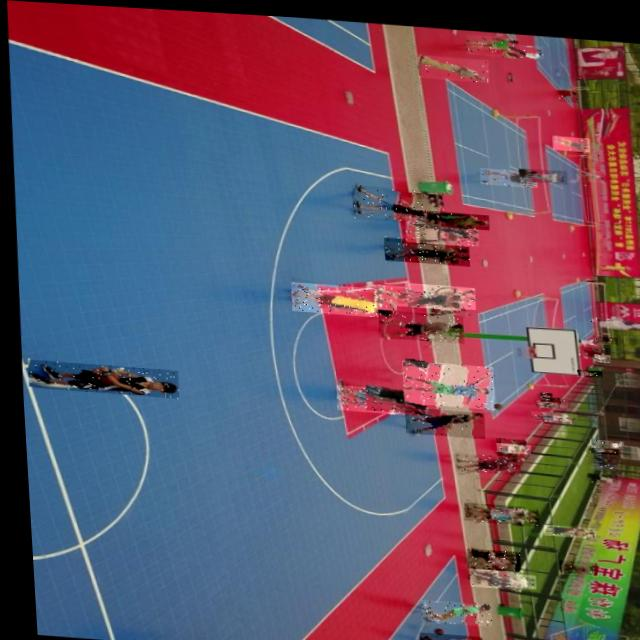Person: (22, 359, 173, 397), (396, 355, 490, 404), (285, 276, 393, 313), (348, 180, 441, 220), (330, 379, 420, 411), (373, 305, 459, 338), (379, 231, 466, 260), (398, 402, 479, 433), (359, 380, 439, 409), (369, 280, 456, 305), (401, 212, 475, 240), (412, 594, 483, 621), (416, 49, 487, 76), (400, 278, 471, 304), (448, 447, 514, 469), (465, 499, 532, 520), (456, 496, 518, 518), (459, 542, 513, 566), (465, 28, 519, 52), (461, 560, 514, 584), (423, 205, 485, 224), (476, 161, 534, 181), (410, 627, 474, 640), (515, 161, 564, 177), (483, 566, 528, 583), (549, 128, 587, 145), (490, 431, 520, 452), (504, 36, 543, 52), (535, 517, 578, 531), (525, 404, 571, 417), (551, 553, 590, 568), (546, 516, 588, 529), (583, 450, 614, 464), (573, 338, 605, 351), (490, 436, 524, 448), (572, 161, 601, 175), (583, 431, 618, 442), (581, 446, 612, 458), (580, 465, 611, 476), (579, 438, 612, 448), (530, 393, 560, 401), (556, 83, 576, 95), (535, 392, 561, 401), (571, 362, 596, 370), (589, 328, 613, 336), (585, 309, 609, 315), (589, 346, 605, 355), (534, 390, 554, 396), (534, 386, 546, 392)
